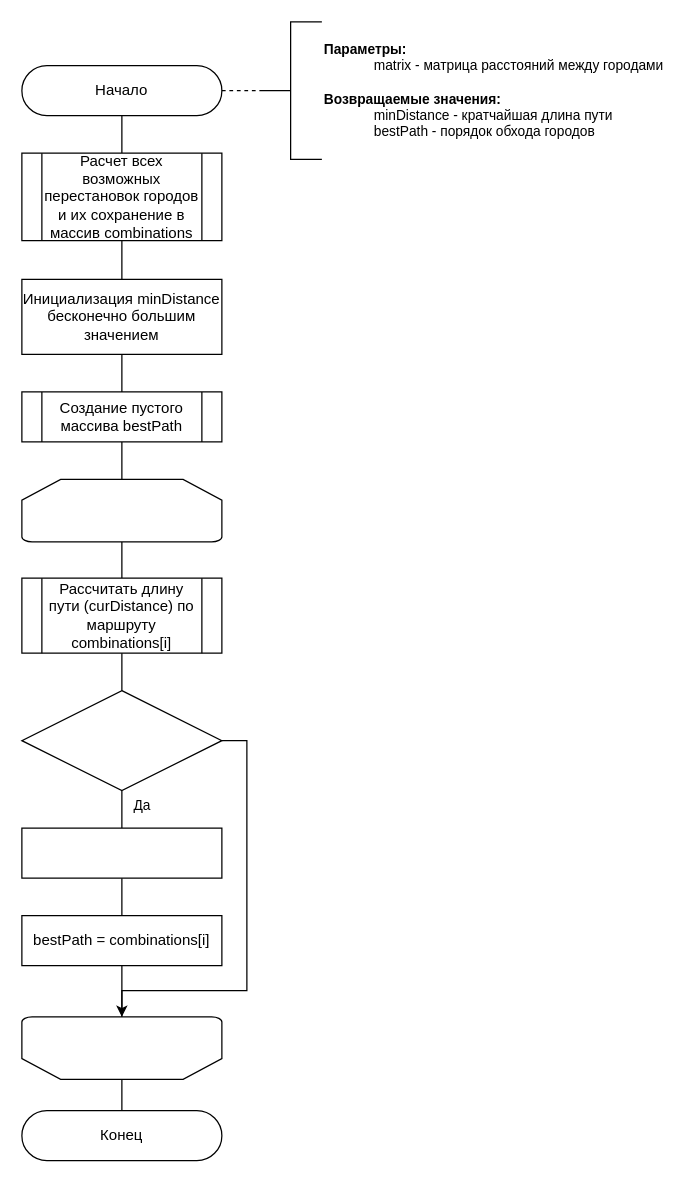
This 686x1183 diagram has some shape labels left out. Here are the shapes that lost their labels. From the top down, the centre of each, then its label:
At (x=121, y=510): "Цикл по i от 0 до len(combinations) - 1 с шагом 1".
At (x=121, y=740): "curDistance < minDistance".
At (x=121, y=852): "minDistance = curDistance".
At (x=121, y=1047): "Конец цикла по i".
